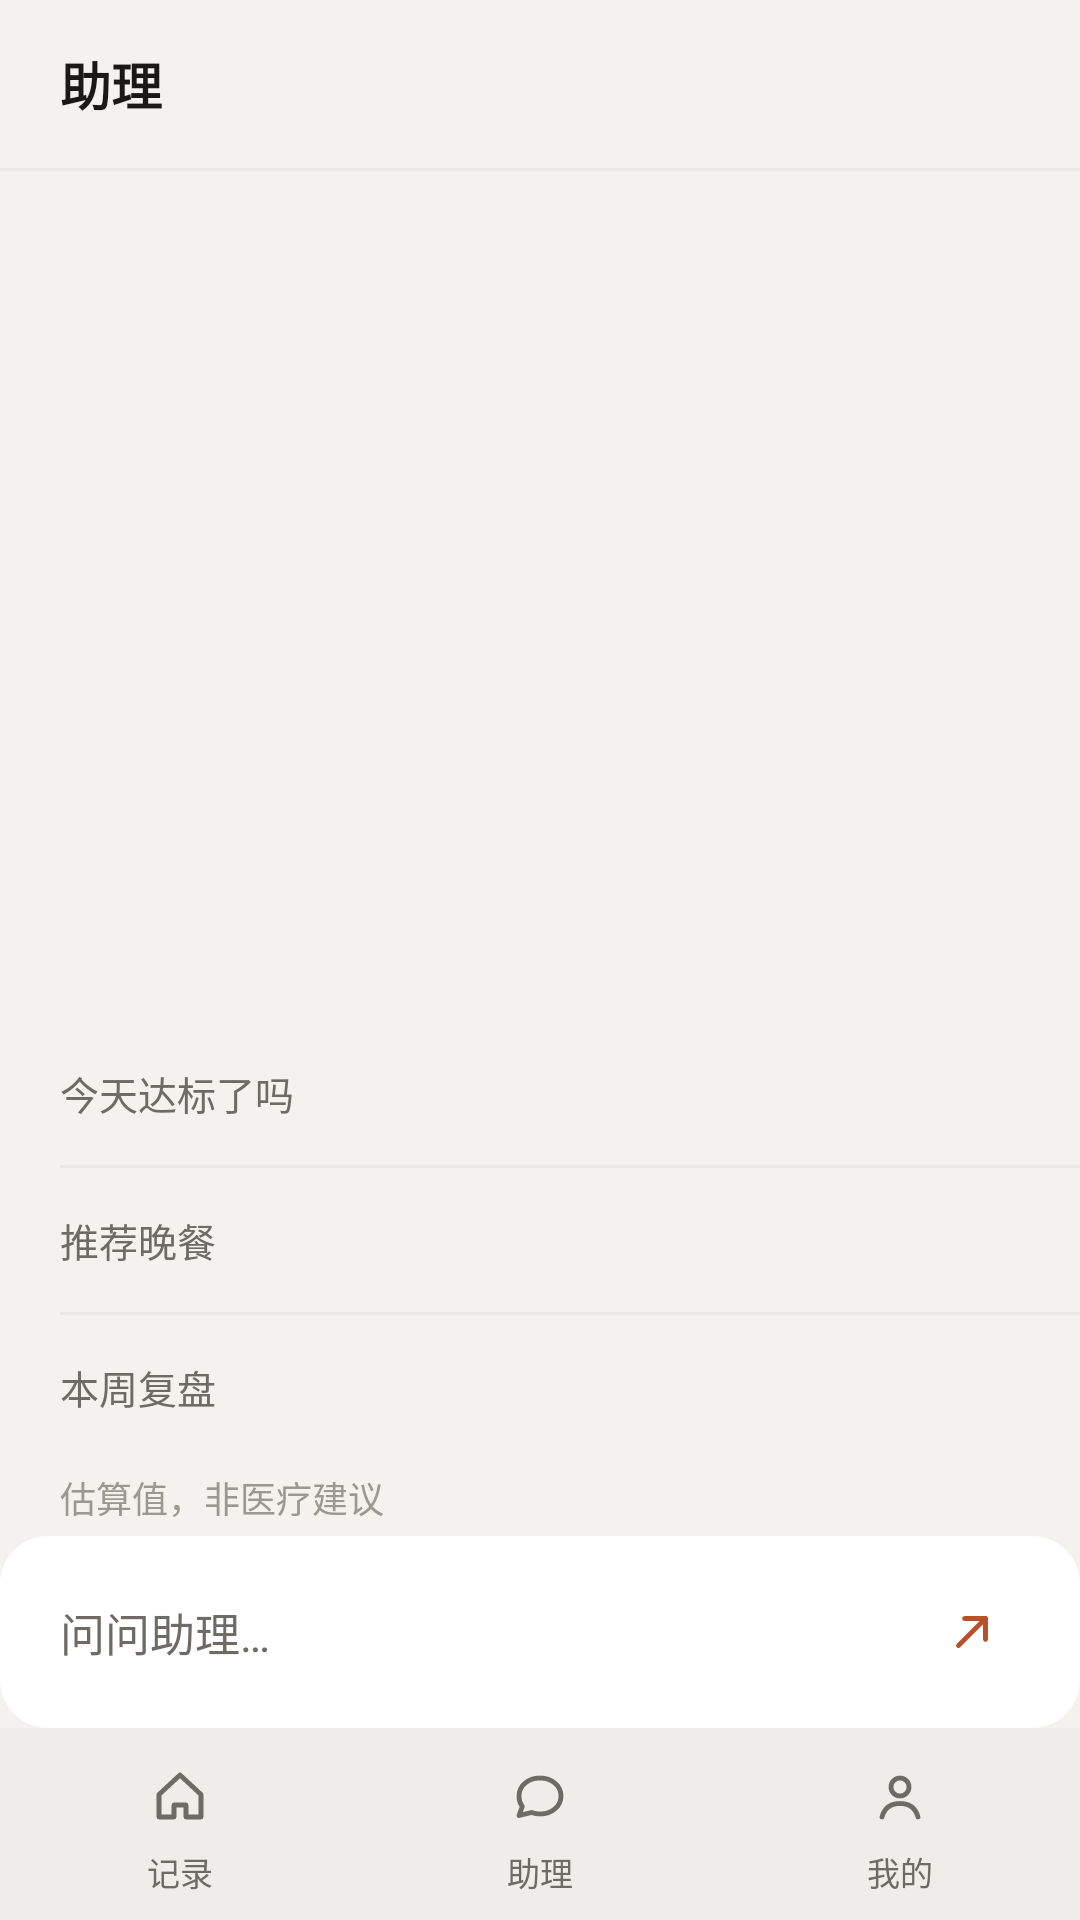

Locate icon controls on the screen. Image size 1080px×1920px, boxes as (left=x1, top=y1, right=x2, bottom=y2).
发送: (left=956, top=1616, right=988, bottom=1648)
